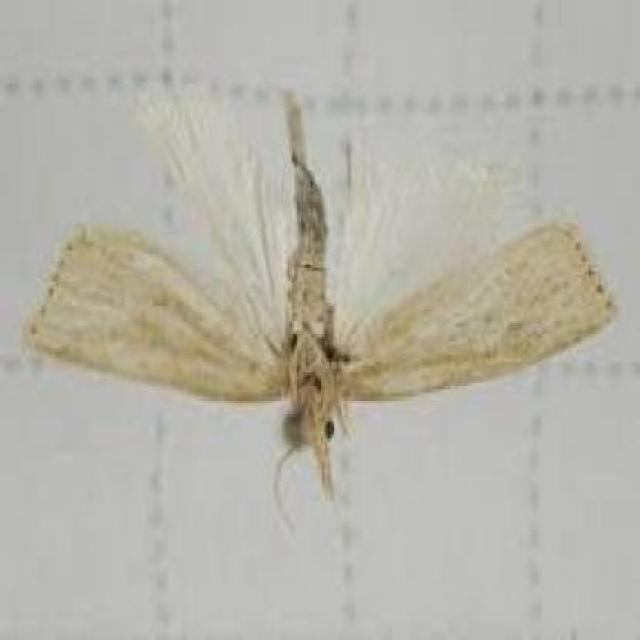stem-borer: (26, 111, 620, 494)
